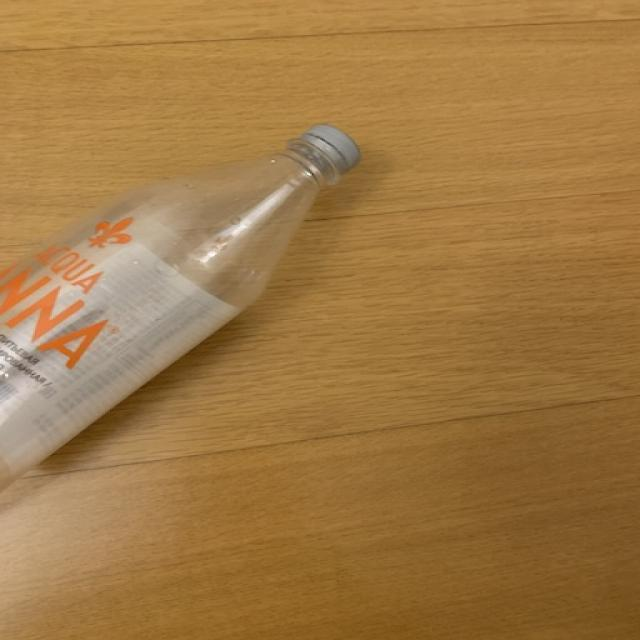bottle: (1, 124, 362, 494)
